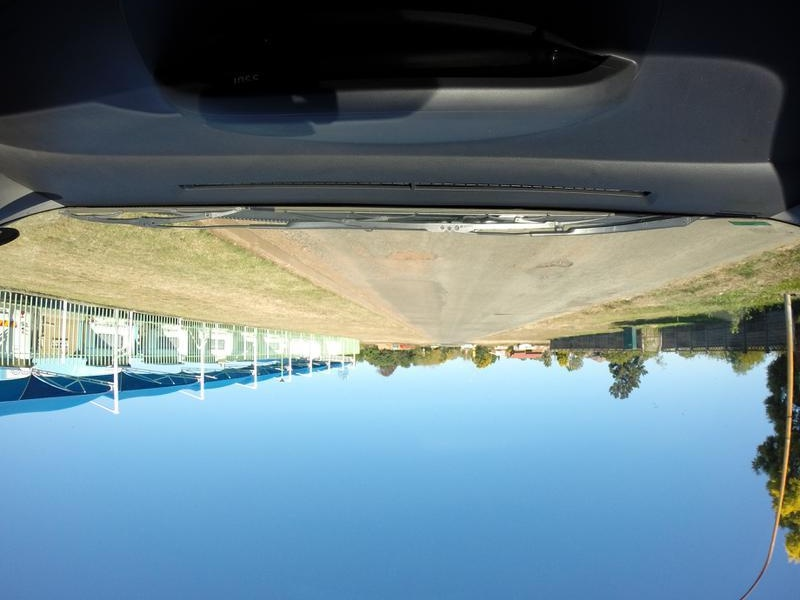pothole: (393, 250, 438, 261), (538, 259, 574, 270), (494, 314, 517, 316)
